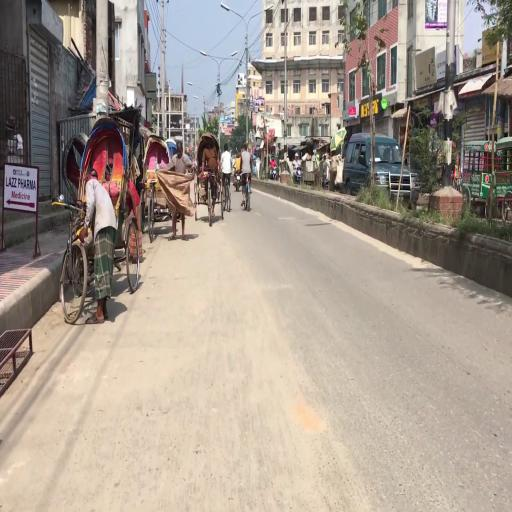bicycle: (241, 146, 254, 211), (223, 145, 234, 213)
motorbike: (233, 151, 242, 192), (293, 153, 302, 185), (271, 154, 279, 179)
rickshaw: (53, 115, 141, 322), (192, 134, 225, 225), (142, 136, 169, 244)
suv: (343, 134, 421, 213)
